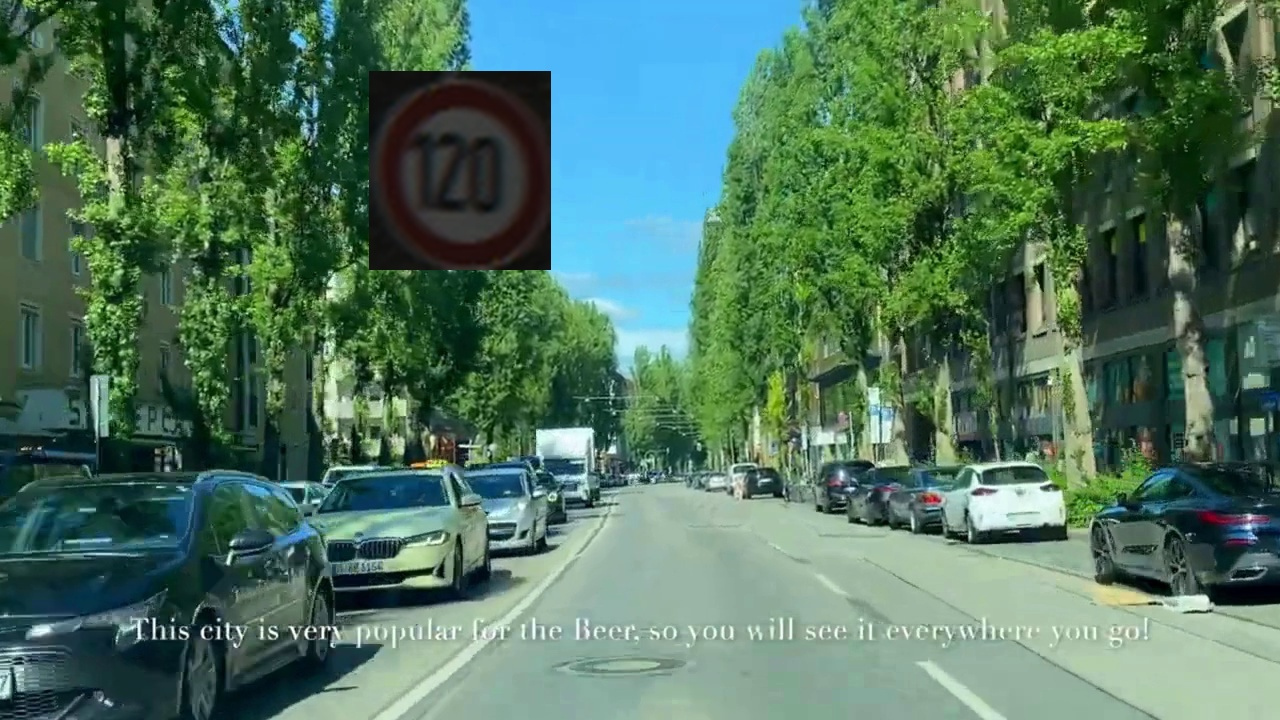Speed 120: (369, 71, 551, 270)
